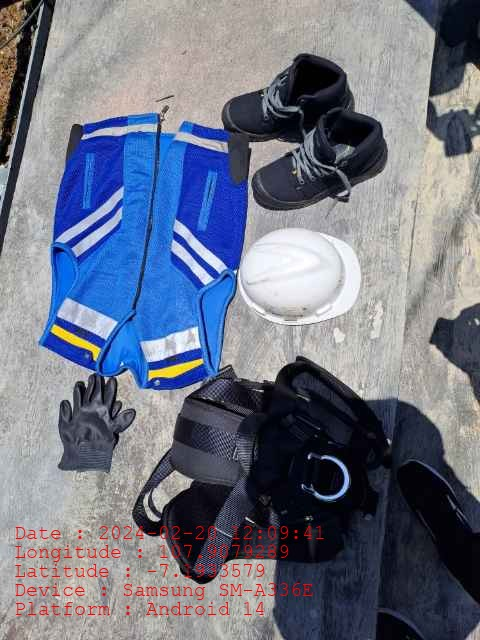HELM: (238, 227, 360, 326)
ROMPI: (48, 119, 226, 379)
SARUNG_TANGAN: (57, 373, 136, 474)
